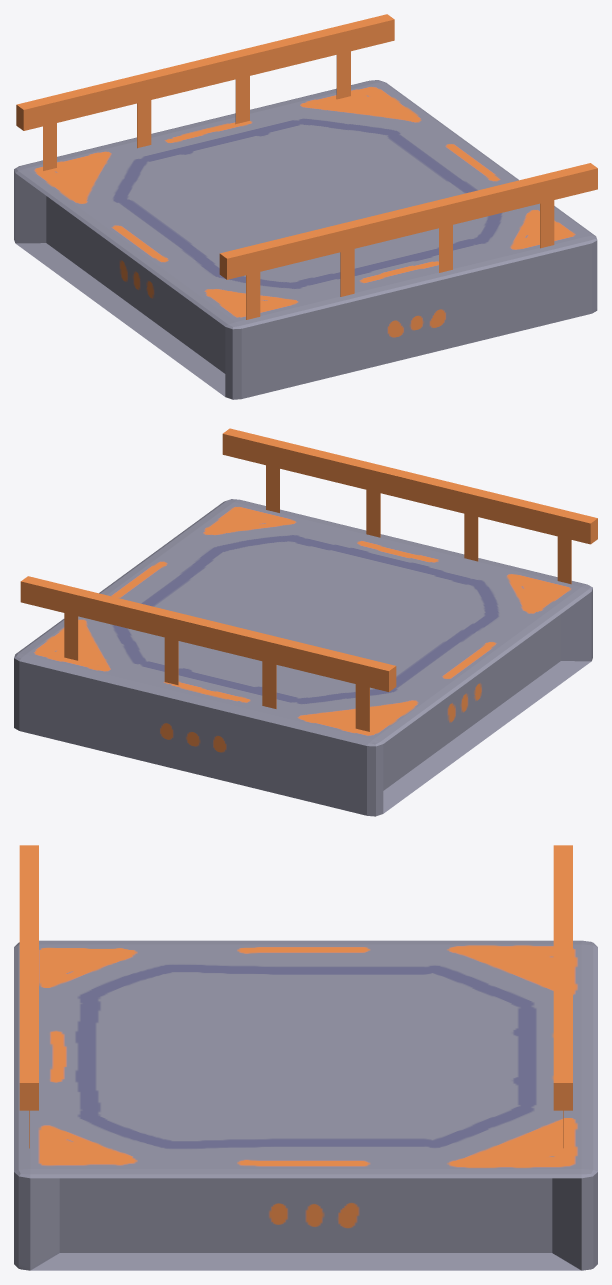
Rendered from GalpaoPlatform.fbx.
3 renders of one model, top to bottom at view 1: azimuth 30°, elevation 25°; view 2: azimuth 150°, elevation 25°; view 3: azimuth 270°, elevation 25°, orthographic. The views are drawn at different scales.
Parts seen in each view (by area): view 1: Cube, Cube.003, Cube.010; view 2: Cube, Cube.010, Cube.003; view 3: Cube, Cube.003, Cube.010.
Part boxes in pixels (left/top/right/bottom): Cube: left=14, top=80, right=597, bottom=399; Cube.003: left=219, top=163, right=597, bottom=319; Cube.010: left=16, top=14, right=394, bottom=170; Cube: left=14, top=499, right=592, bottom=816; Cube.010: left=20, top=576, right=396, bottom=731; Cube.003: left=222, top=428, right=597, bottom=584; Cube: left=14, top=940, right=597, bottom=1270; Cube.003: left=19, top=845, right=38, bottom=1148; Cube.010: left=553, top=845, right=572, bottom=1148.
Size of the model in its own units: 1930 by 711 by 1991.
1 material, 1 textured.
